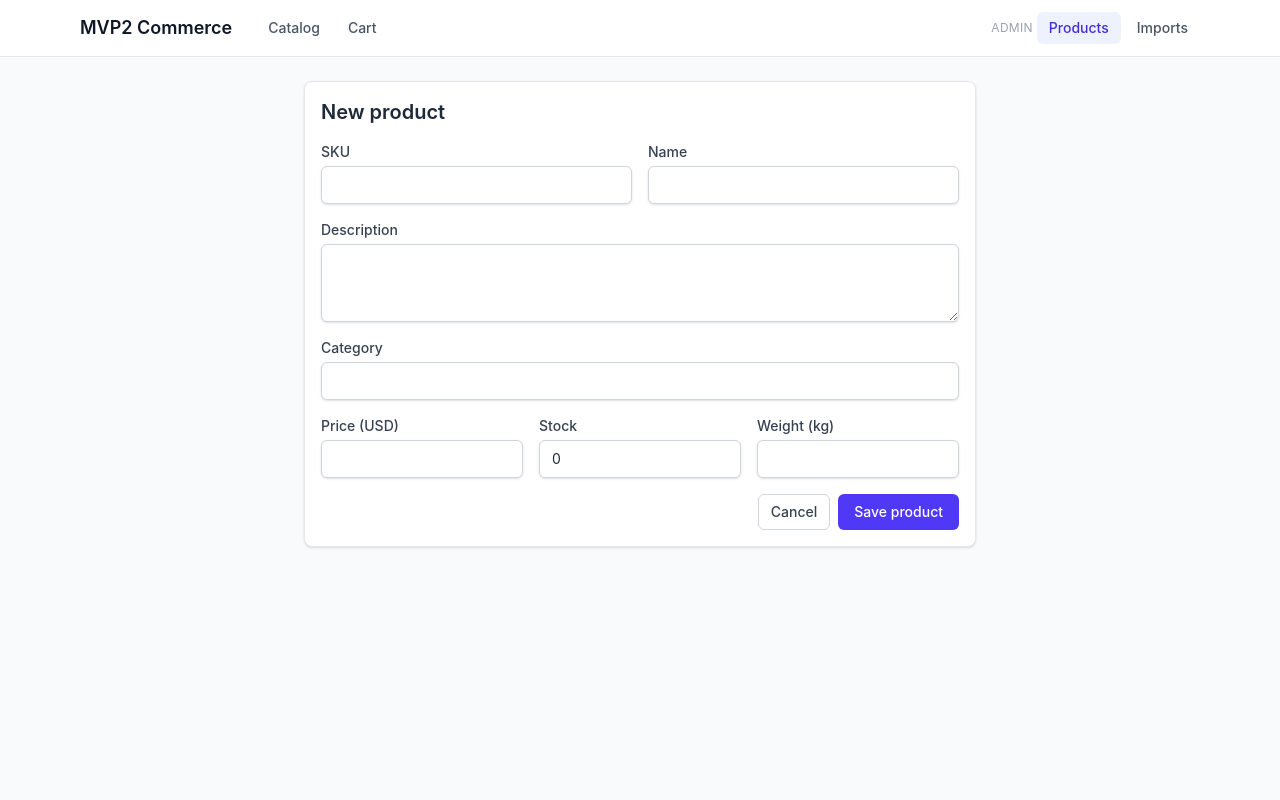
it: product form › validates the fields before calling the API
Click the button "Save product": (899, 512) [838,494,959,530]
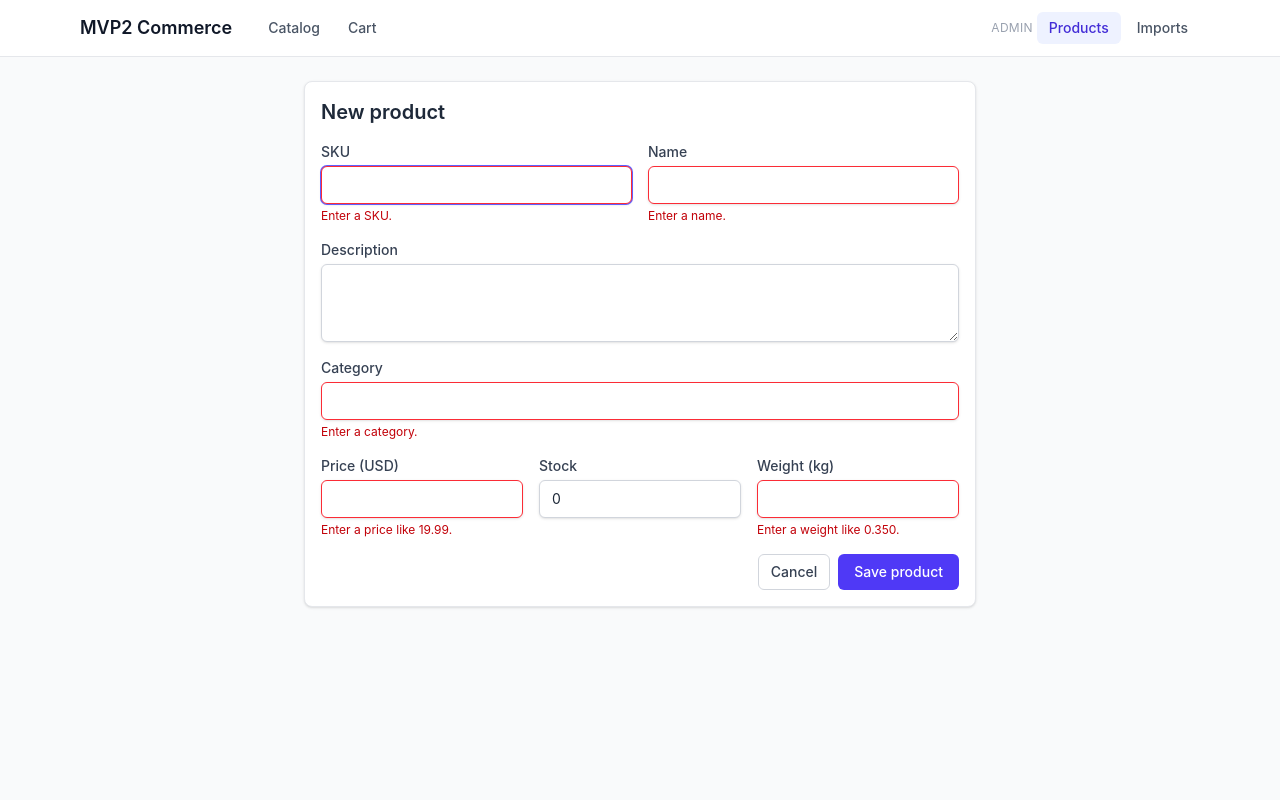
Now the text "Enter a SKU." is shown, box [321,208,392,223]
Now the text "Enter a price like 19.99." is shown, box [321,522,452,537]
